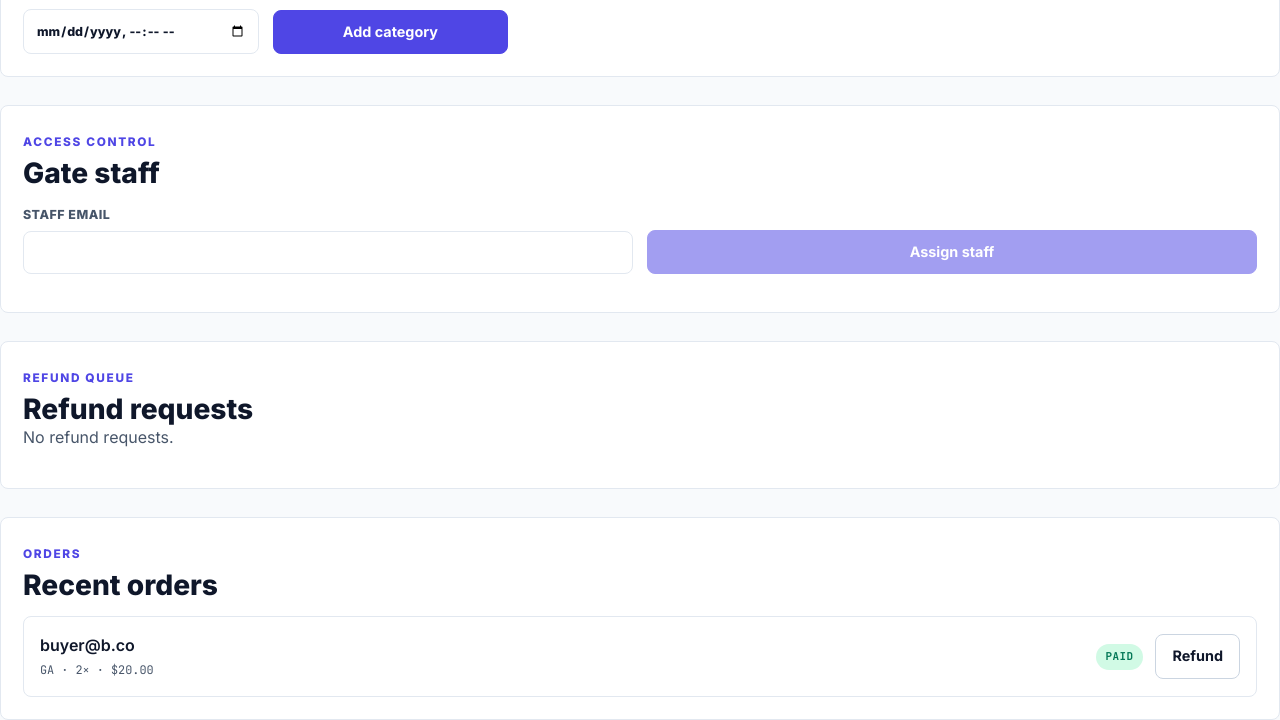
Test: OrganizerEvent › refunds a paid order from the orders list
(page scrolled)
Expected: the text "buyer@b.co" is shown, [40, 636, 135, 656]
Click the button "Refund" at (1198, 657), box [1155, 634, 1240, 679]
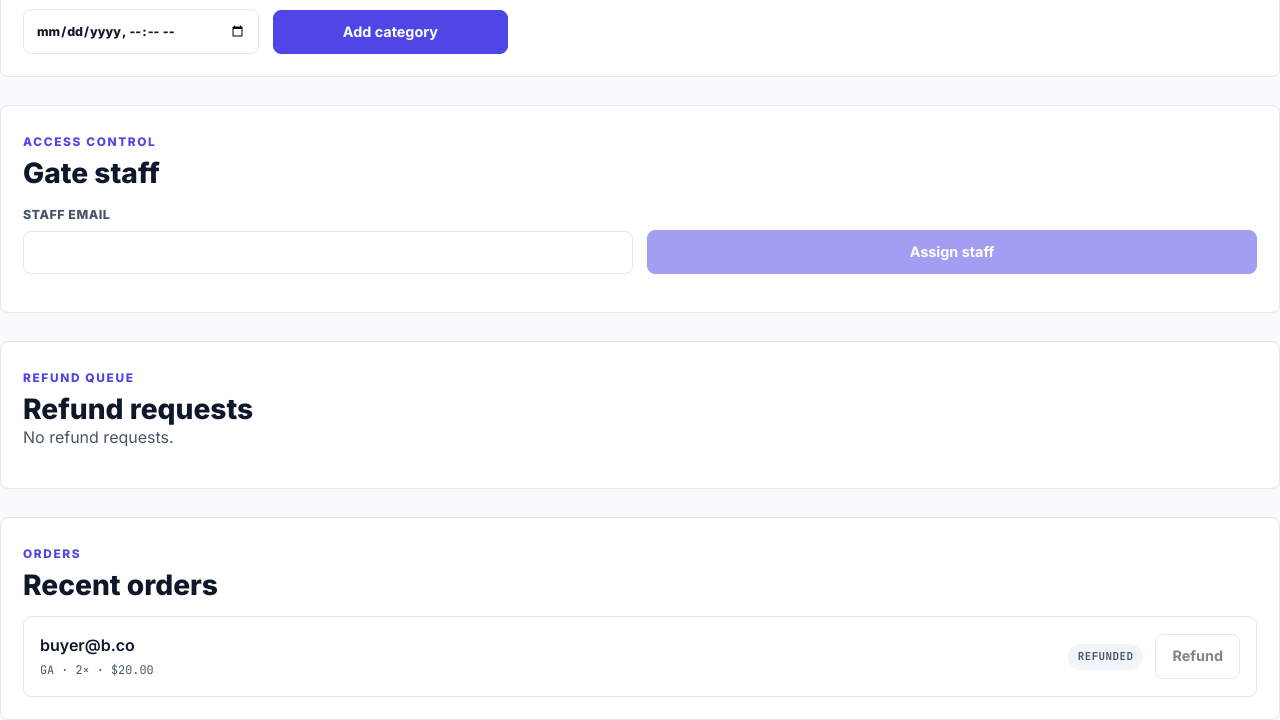
Expected: the text "refunded" is shown, [1068, 644, 1143, 670]
